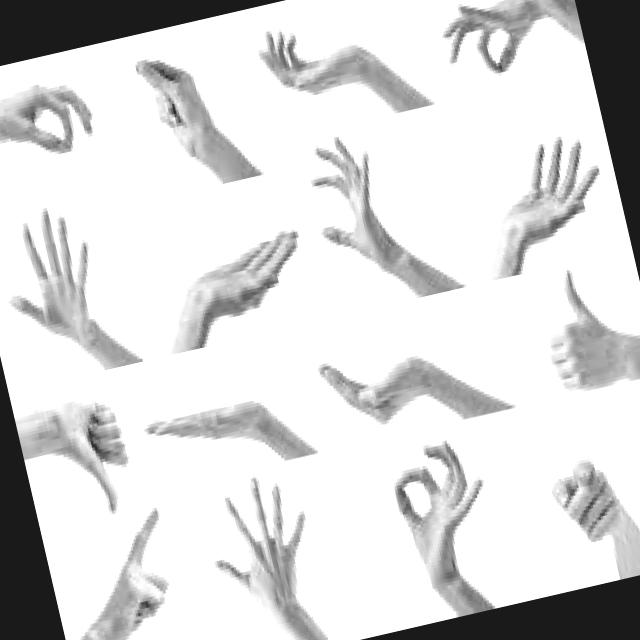Hand: (190, 459, 328, 627), (379, 428, 508, 596), (0, 194, 115, 360), (62, 504, 195, 640), (481, 121, 616, 252), (171, 216, 316, 331), (295, 125, 399, 278), (310, 332, 436, 440), (50, 385, 145, 522), (530, 260, 620, 403), (128, 41, 225, 173), (429, 0, 563, 91), (136, 387, 276, 472), (247, 8, 359, 110), (0, 63, 104, 172), (540, 446, 632, 556)
